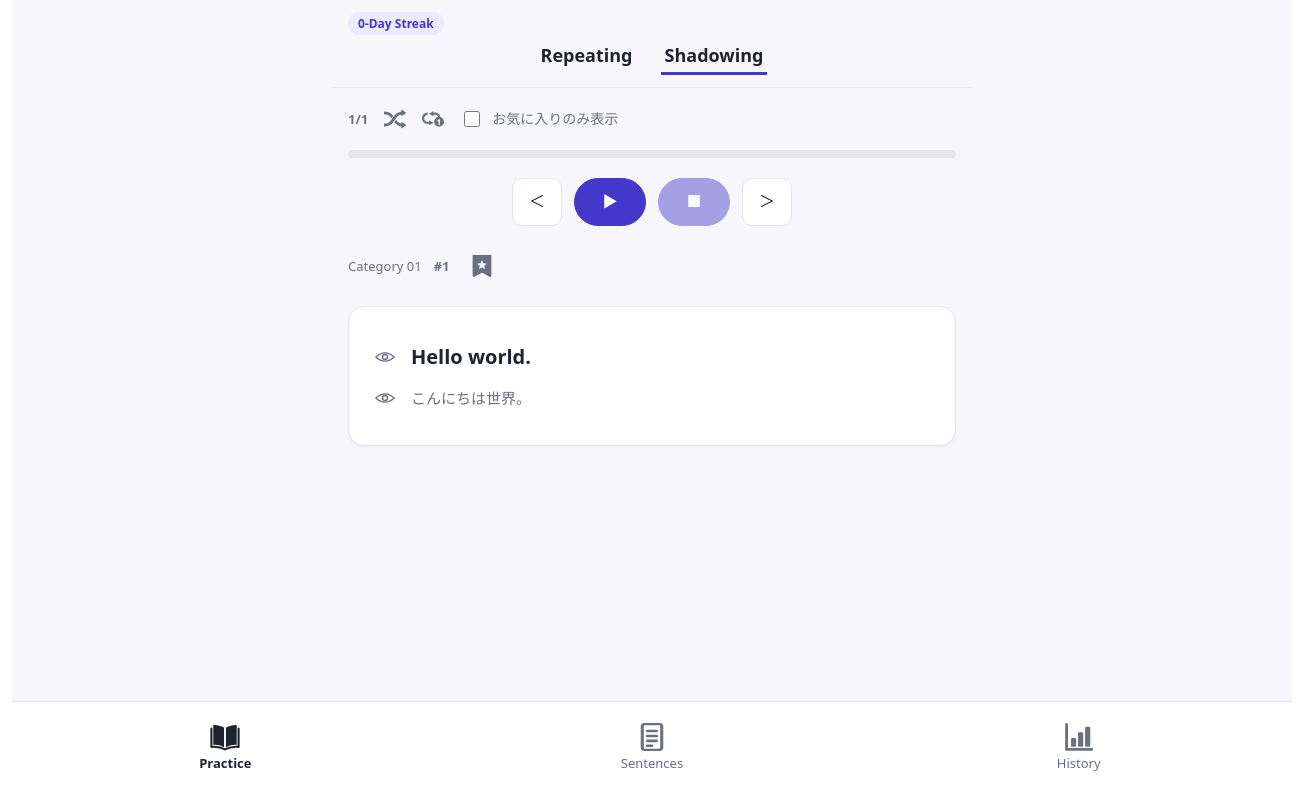
Test: App › 練習履歴タブに切り替えると練習履歴画面（連続学習日数）が表示される
Expected: the text "Hello world." is shown, [411,342,531,372]
Click the button "History" at (1079, 751), box [865,702,1292,799]
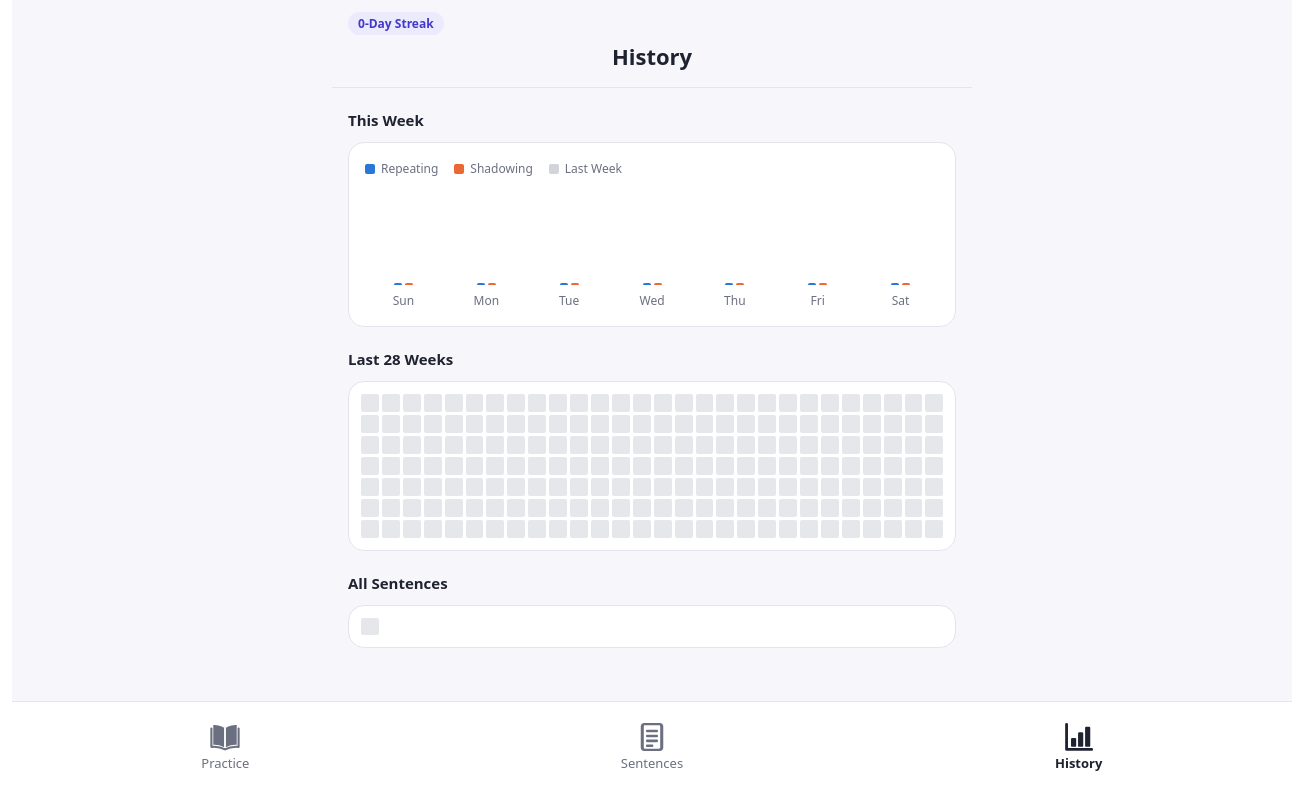
Result: the heading "History" is shown at [612,41,692,71]
